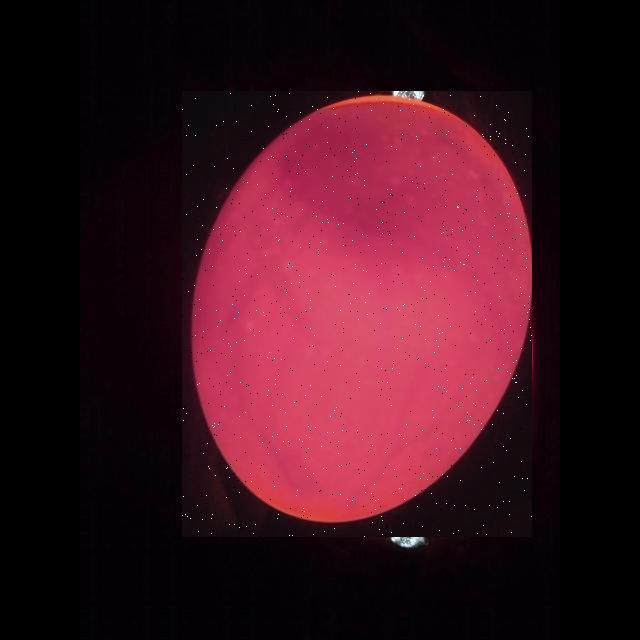Fertile: (182, 91, 532, 537)
